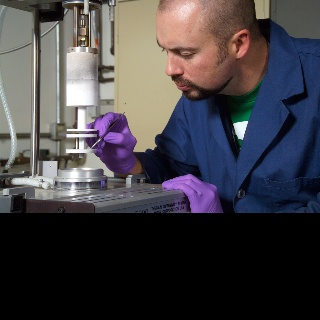without_mask: (155, 9, 235, 101)
